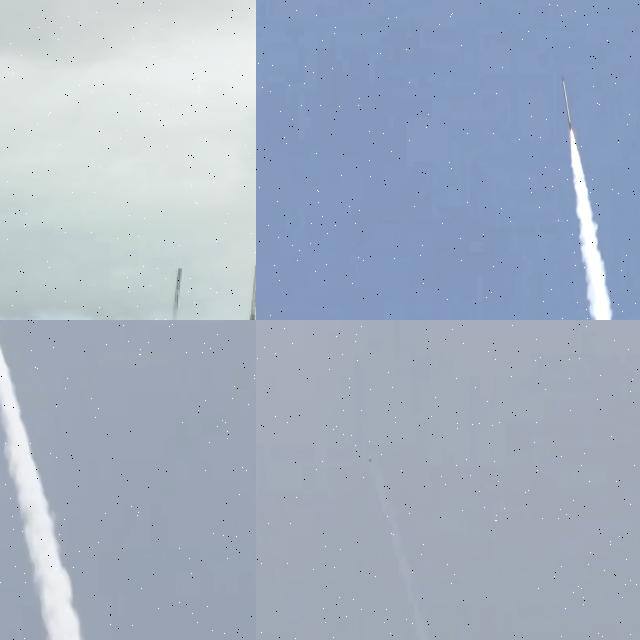Rocket: (562, 78, 573, 133), (369, 458, 371, 462)
